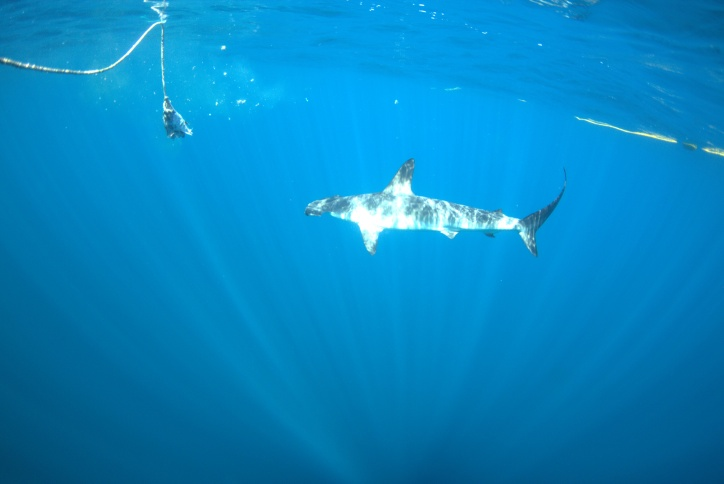Hammer: (255, 110, 590, 302)
